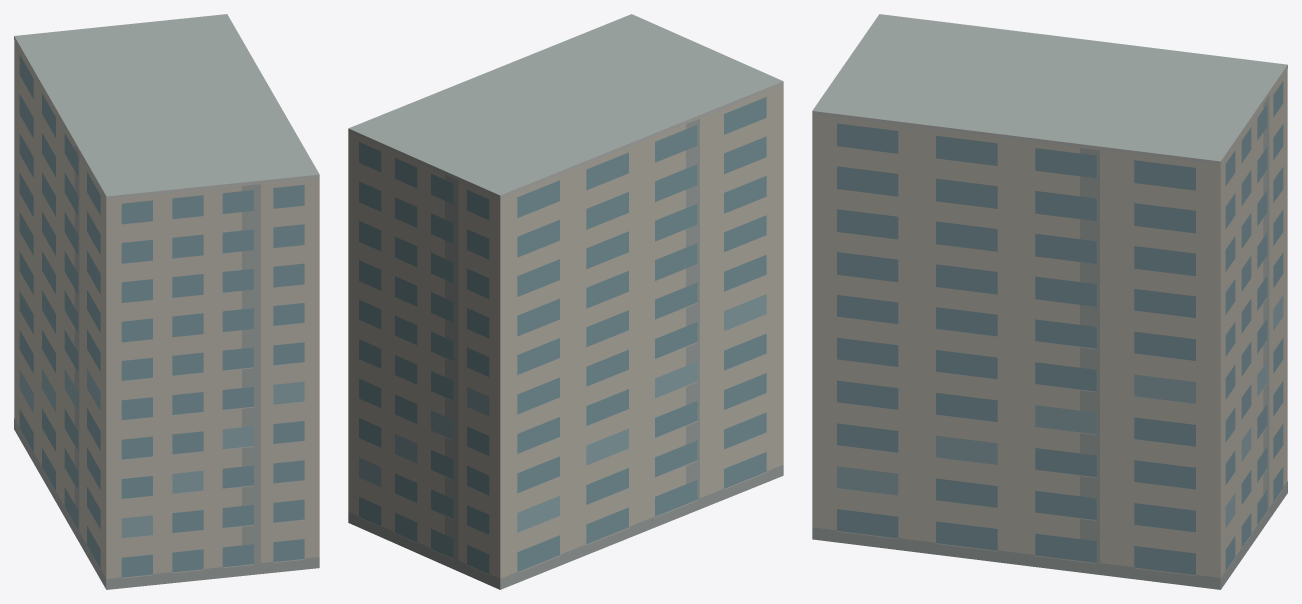
Rendered from residential-f2da07b9-c782-464f-b7a0-8af6792fd7c2.glb.
3 views of the same model, side by side, from view 1: azimuth 30°, elevation 25°; view 2: azimuth 150°, elevation 25°; view 3: azimuth 270°, elevation 25° (orthographic). The views are drawn at different scales.
Visible parts, largest first — view 1: residential-f2da07b9-c782-464f-b7a0-8af6792fd7c2.tmp; view 2: residential-f2da07b9-c782-464f-b7a0-8af6792fd7c2.tmp; view 3: residential-f2da07b9-c782-464f-b7a0-8af6792fd7c2.tmp.
Part boxes in pixels (x1,y1,x2,y2): residential-f2da07b9-c782-464f-b7a0-8af6792fd7c2.tmp: (14,14,319,589); residential-f2da07b9-c782-464f-b7a0-8af6792fd7c2.tmp: (348,14,783,589); residential-f2da07b9-c782-464f-b7a0-8af6792fd7c2.tmp: (812,14,1287,589).
Size of the model in its own units: 19.94 by 27 by 27.17.
